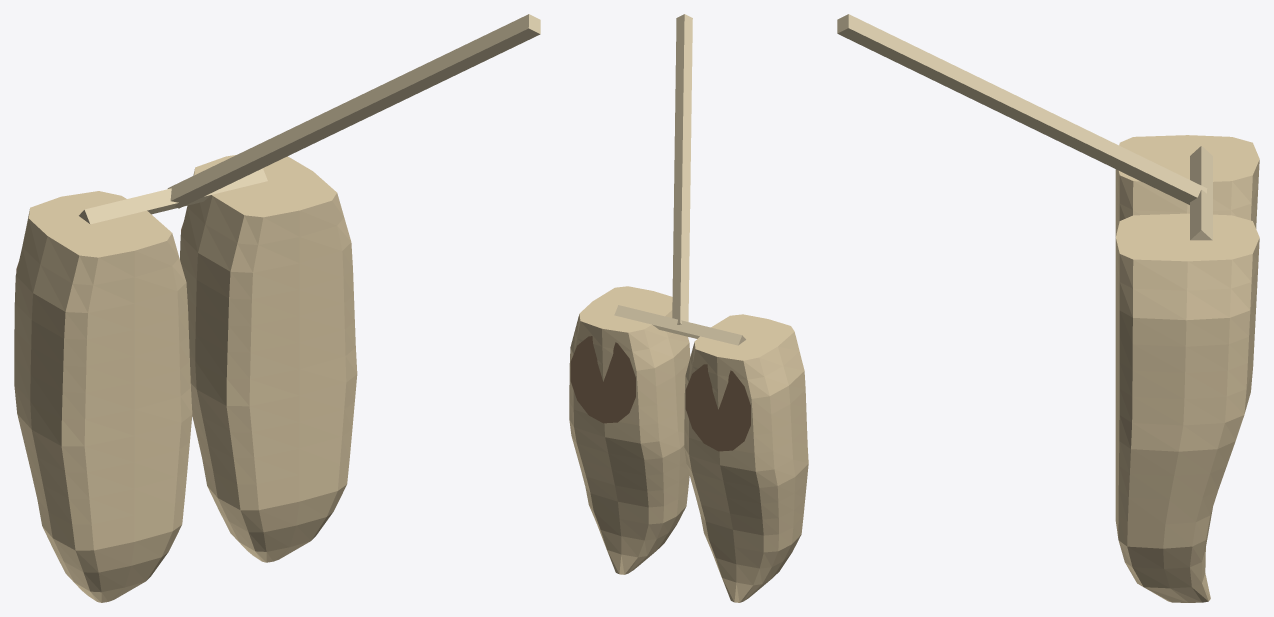
File: load_shoes.glb
The picture shows the model from 3 angles, left to right: view 1: azimuth 30°, elevation 25°; view 2: azimuth 150°, elevation 25°; view 3: azimuth 270°, elevation 25°; orthographic projection. The views are drawn at different scales.
Parts seen in each view (by area): view 1: Carry.Clog#2, Carry.Clog, Carry.Cord#2, Carry.Cord; view 2: Carry.Clog#2, Carry.Clog, Carry.Cord#2, Carry.Clog.Opening, Carry.Clog.Opening#2, Carry.Cord; view 3: Carry.Clog, Carry.Cord#2, Carry.Clog#2, Carry.Cord.
Boxes of the visible parts, left/top/right/bottom form: Carry.Clog#2: left=14, top=191, right=192, bottom=602; Carry.Clog: left=180, top=155, right=357, bottom=562; Carry.Cord#2: left=167, top=14, right=540, bottom=208; Carry.Cord: left=79, top=168, right=267, bottom=224; Carry.Clog#2: left=684, top=314, right=808, bottom=602; Carry.Clog: left=569, top=286, right=690, bottom=574; Carry.Cord#2: left=672, top=14, right=692, bottom=324; Carry.Clog.Opening: left=570, top=336, right=635, bottom=423; Carry.Clog.Opening#2: left=685, top=364, right=750, bottom=451; Carry.Cord: left=614, top=305, right=745, bottom=345; Carry.Clog: left=1115, top=213, right=1259, bottom=602; Carry.Cord#2: left=837, top=14, right=1207, bottom=204; Carry.Clog#2: left=1115, top=135, right=1259, bottom=236; Carry.Cord: left=1190, top=146, right=1212, bottom=240.
Bounding box in the file's own units: 0.2678 × 0.4856 × 0.2958.
